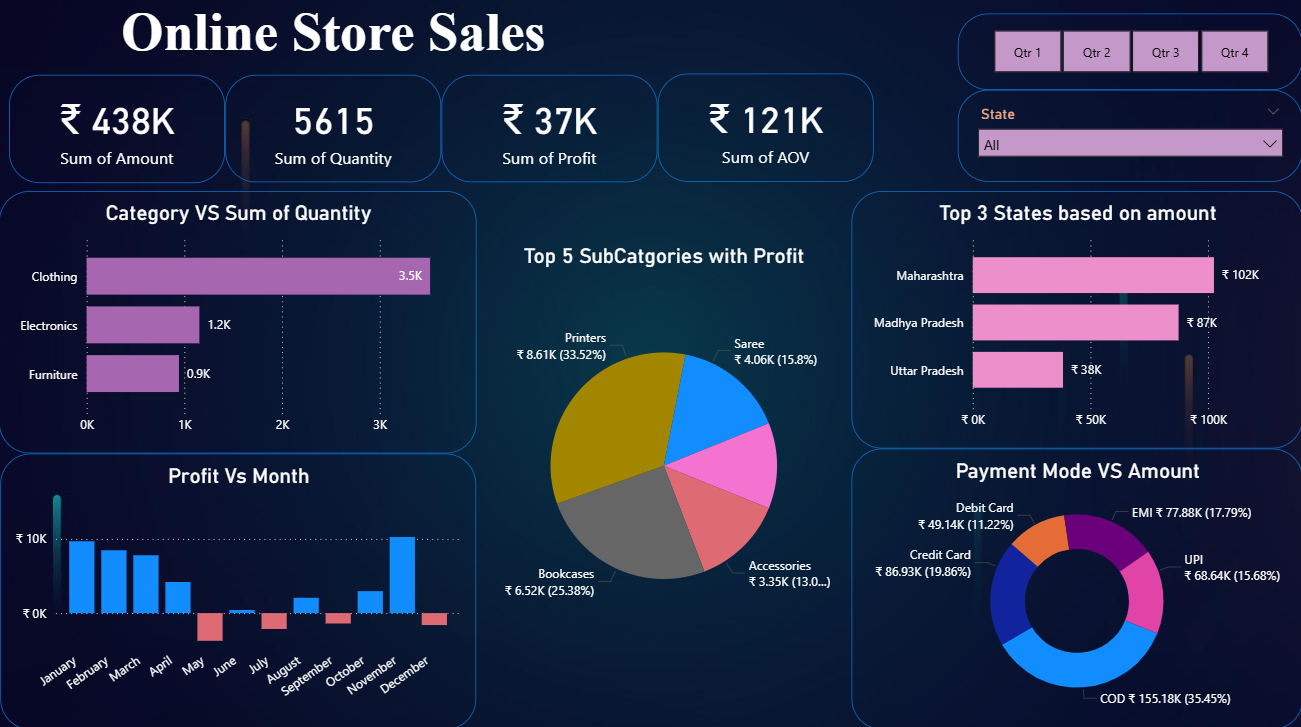

The dashboard page shown, as its layout file describes it:
{"tool":"powerbi","page":{"name":"Page 1","canvas":[1280,720],"ordinal":0},"visuals":[{"type":"textbox","box":[9.8,0,650.3,92],"z":0},{"type":"columnChart","title":"Profit Vs Month","fields":{"Category":["Orders.Order Date.Variation.Date Hierarchy.Month"],"Y":["Sum(Details.Profit)"]},"box":[11,449.1,471.2,271.2],"z":1000},{"type":"pieChart","title":"Top 5 SubCatgories with Profit","fields":{"Y":["Sum(Details.Profit)"],"Series":["Details.Sub-Category"]},"box":[490.8,191.4,368.1,413.5],"z":2000},{"type":"clusteredBarChart","title":"Category VS Sum of Quantity","fields":{"Category":["Details.Category"],"Y":["Sum(Details.Quantity)"]},"box":[9.8,191.4,472.4,257.7],"z":3000},{"type":"donutChart","title":"Payment Mode VS Amount","fields":{"Y":["Sum(Details.Amount)"],"Series":["Details.PaymentMode"]},"box":[868.7,444.2,411,273.6],"z":4000},{"type":"card","fields":{"Values":["Sum(Details.Amount)"]},"box":[9.8,77.3,212,106],"z":5000},{"type":"card","fields":{"Values":["Sum(Details.Quantity)"]},"box":[222.1,77.3,212.3,105.5],"z":6000},{"type":"card","fields":{"Values":["Sum(Details.Profit)"]},"box":[434.4,77.3,212.3,105.5],"z":7000},{"type":"card","fields":{"Values":["Sum(Details.AOV)"]},"box":[646.6,76.1,212.3,106.7],"z":8000},{"type":"clusteredBarChart","title":"Top 3 States based on amount","fields":{"Category":["Orders.State"],"Y":["Sum(Details.Amount)"]},"box":[868.7,191.4,411,252.8],"z":9000},{"type":"slicer","fields":{"Values":["Orders.Order Date.Variation.Date Hierarchy.Quarter"]},"box":[941.1,2.5,338.7,74.8],"z":10000},{"type":"slicer","fields":{"Values":["Orders.State"]},"box":[941.1,77.3,338.7,90.8],"z":11000}]}

Visuals, with their boxes in screenshot pixels (x1, y1, x2, y2), scaled from the page's 1280x720 canvas onto the 1301x727 screenshot:
textbox: <region>10, 0, 671, 93</region>
"Profit Vs Month" columnChart: <region>11, 453, 490, 726</region>
"Top 5 SubCatgories with Profit" pieChart: <region>499, 193, 873, 611</region>
"Category VS Sum of Quantity" clusteredBarChart: <region>10, 193, 490, 453</region>
"Payment Mode VS Amount" donutChart: <region>883, 449, 1300, 725</region>
card - Sum(Details.Amount): <region>10, 78, 225, 185</region>
card - Sum(Details.Quantity): <region>226, 78, 442, 185</region>
card - Sum(Details.Profit): <region>442, 78, 657, 185</region>
card - Sum(Details.AOV): <region>657, 77, 873, 185</region>
"Top 3 States based on amount" clusteredBarChart: <region>883, 193, 1300, 449</region>
slicer - Orders.Order Date.Variation.Date Hierarchy.Quarter: <region>957, 3, 1300, 78</region>
slicer - Orders.State: <region>957, 78, 1300, 170</region>
